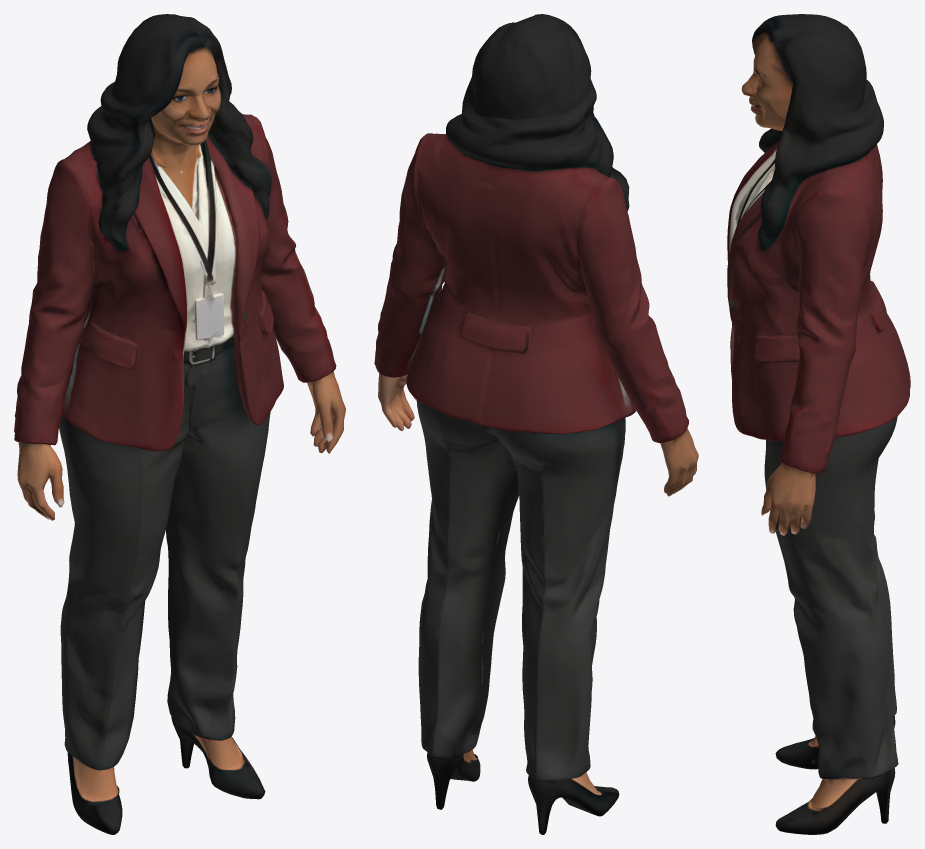
The model's file is principal.glb.
The picture shows the model from 3 angles, left to right: view 1: azimuth 30°, elevation 25°; view 2: azimuth 150°, elevation 25°; view 3: azimuth 270°, elevation 25°; orthographic projection. The views are drawn at different scales.
Parts seen in each view (by area): view 1: tripo_node_407c21aa-1a63-4089-becb-4dbd14f39a44; view 2: tripo_node_407c21aa-1a63-4089-becb-4dbd14f39a44; view 3: tripo_node_407c21aa-1a63-4089-becb-4dbd14f39a44.
Part boxes in pixels (x1,y1,x2,y2): tripo_node_407c21aa-1a63-4089-becb-4dbd14f39a44: (14,14,345,834); tripo_node_407c21aa-1a63-4089-becb-4dbd14f39a44: (374,14,698,834); tripo_node_407c21aa-1a63-4089-becb-4dbd14f39a44: (727,14,910,834).
Bounding box in the file's own units: 0.4269 × 1 × 0.2127.
1 material, 1 textured.
